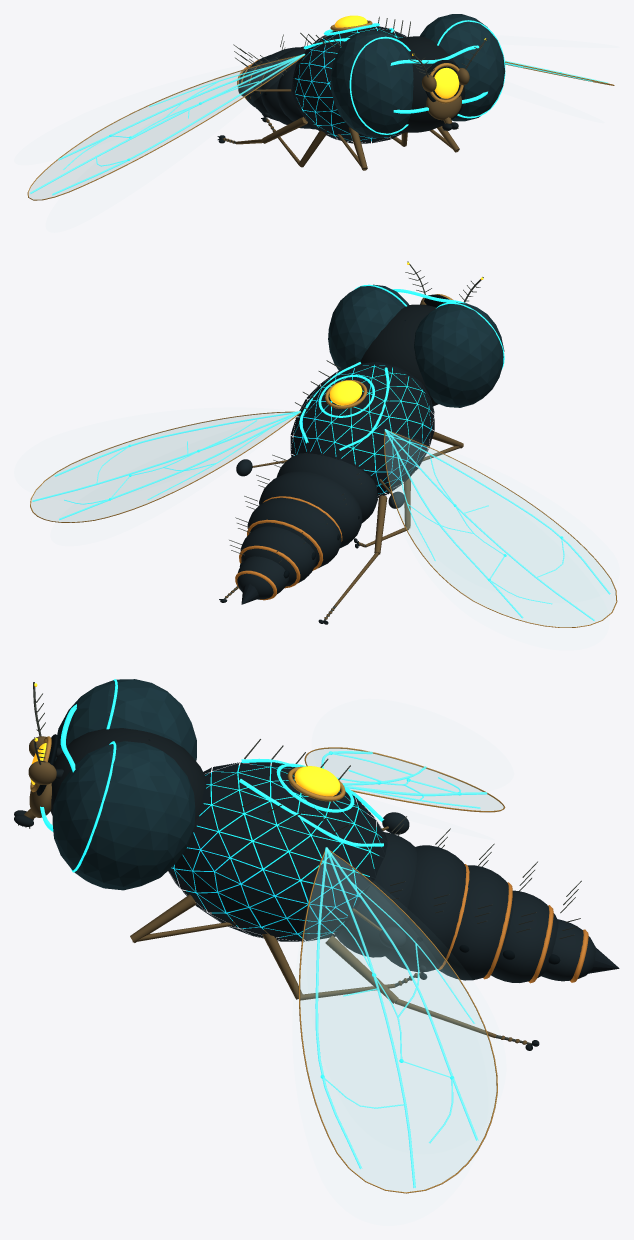
The model's file is mirror-gap-v5.0.0.glb.
3 views of the same model, one above another, from view 1: azimuth 30°, elevation 25°; view 2: azimuth 150°, elevation 25°; view 3: azimuth 270°, elevation 25° (orthographic). The views are drawn at different scales.
Visible parts, largest first — view 1: Separate_head_Left_compound_eye_batch, Thin_wing_membrane, Faceted_obsidian_thorax, Horizontal_segmented_abdomen_Abdominal_segment_1_batch, Left_single_membrane_wing_Cyan_neural_wing_vein_1_batch, Head_capsule, Separate_head_Cyan_compound_eye_rim_batch, Costal_wing_gold_edge (×2), Femur (×3), Thorax_inner_cyan_fissures, Facial_amber_core, Face_and_clypeus (+2 smaller); view 2: Thin_wing_membrane (×2), Horizontal_segmented_abdomen_Abdominal_segment_1_batch, Separate_head_Left_compound_eye_batch, Faceted_obsidian_thorax, Head_capsule, Right_single_membrane_wing_Cyan_neural_wing_vein_1_batch, Left_single_membrane_wing_Cyan_neural_wing_vein_1_batch, Thorax_inner_cyan_fissures, Costal_wing_gold_edge (×2), Horizontal_segmented_abdomen_Amber_tergite_seam_1_batch, Thorax_pitch_and_bank_Dorsal_core_cyan_fissure_batch, Dorsal_amber_core (+1 smaller); view 3: Thin_wing_membrane (×2), Faceted_obsidian_thorax, Separate_head_Left_compound_eye_batch, Horizontal_segmented_abdomen_Abdominal_segment_1_batch, Thorax_inner_cyan_fissures, Right_single_membrane_wing_Cyan_neural_wing_vein_1_batch, Head_capsule, Costal_wing_gold_edge (×2), Left_single_membrane_wing_Cyan_neural_wing_vein_1_batch, Femur (×2), Horizontal_segmented_abdomen_Amber_tergite_seam_1_batch, Thorax_pitch_and_bank_Dorsal_core_cyan_fissure_batch (+2 smaller).
Part boxes in pixels (x1,y1,x2,y2): Separate_head_Left_compound_eye_batch: (330,14,505,137); Thin_wing_membrane: (29,58,293,199); Faceted_obsidian_thorax: (292,26,406,143); Horizontal_segmented_abdomen_Abdominal_segment_1_batch: (239,46,319,129); Left_single_membrane_wing_Cyan_neural_wing_vein_1_batch: (30,53,305,195); Head_capsule: (398,36,465,132); Separate_head_Cyan_compound_eye_rim_batch: (349,20,505,134); Costal_wing_gold_edge (×2): (27,55,614,200); Femur (×3): (261,116,367,170); Thorax_inner_cyan_fissures: (295,27,402,141); Facial_amber_core: (434,67,459,98); Face_and_clypeus: (426,95,461,120); Thin_wing_membrane (×2): (31,413,615,626); Horizontal_segmented_abdomen_Abdominal_segment_1_batch: (237,451,377,599); Separate_head_Left_compound_eye_batch: (328,284,504,407); Faceted_obsidian_thorax: (290,362,434,497); Head_capsule: (360,304,438,406); Right_single_membrane_wing_Cyan_neural_wing_vein_1_batch: (32,411,300,520); Left_single_membrane_wing_Cyan_neural_wing_vein_1_batch: (384,429,610,620); Thorax_inner_cyan_fissures: (293,364,432,493); Costal_wing_gold_edge (×2): (30,411,617,627); Horizontal_segmented_abdomen_Amber_tergite_seam_1_batch: (235,496,342,600); Thorax_pitch_and_bank_Dorsal_core_cyan_fissure_batch: (299,362,389,450); Dorsal_amber_core: (329,380,362,405); Thin_wing_membrane (×2): (300,749,503,1191); Faceted_obsidian_thorax: (168,762,387,941); Separate_head_Left_compound_eye_batch: (52,679,196,890); Horizontal_segmented_abdomen_Abdominal_segment_1_batch: (335,832,595,982); Thorax_inner_cyan_fissures: (171,764,381,938); Right_single_membrane_wing_Cyan_neural_wing_vein_1_batch: (315,847,478,1187); Head_capsule: (50,728,205,832); Costal_wing_gold_edge (×2): (298,747,505,1193); Left_single_membrane_wing_Cyan_neural_wing_vein_1_batch: (321,751,487,808); Femur (×2): (130,894,398,1003); Horizontal_segmented_abdomen_Amber_tergite_seam_1_batch: (438,864,588,983); Thorax_pitch_and_bank_Dorsal_core_cyan_fissure_batch: (239,758,384,846).
Size of the model in its own units: 2.24 by 0.8418 by 1.39.
